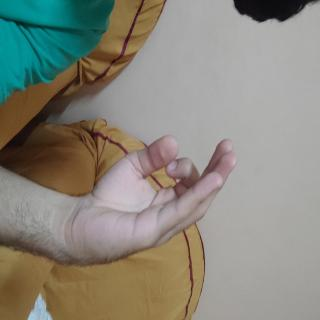Space: (88, 99, 207, 320)
